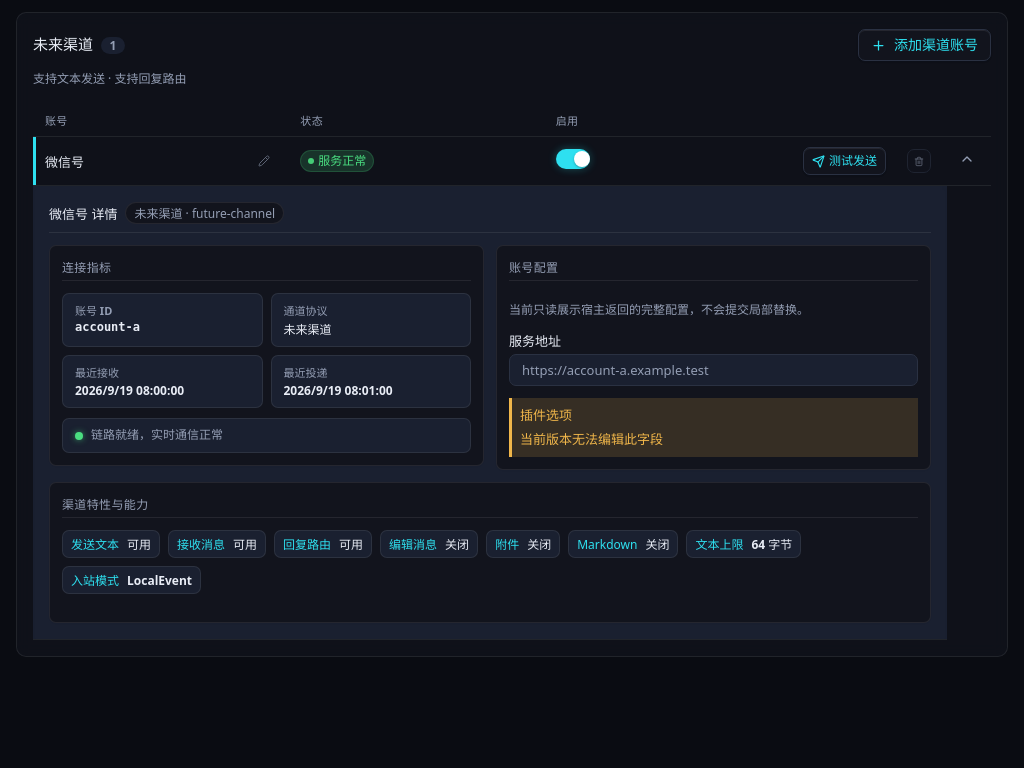
Scenario: ChannelsPage › surfaces a skipped test delivery instead of claiming success
Click the button with aria-label "测试发送 微信号".
click(844, 161)  # box [803, 147, 886, 175]
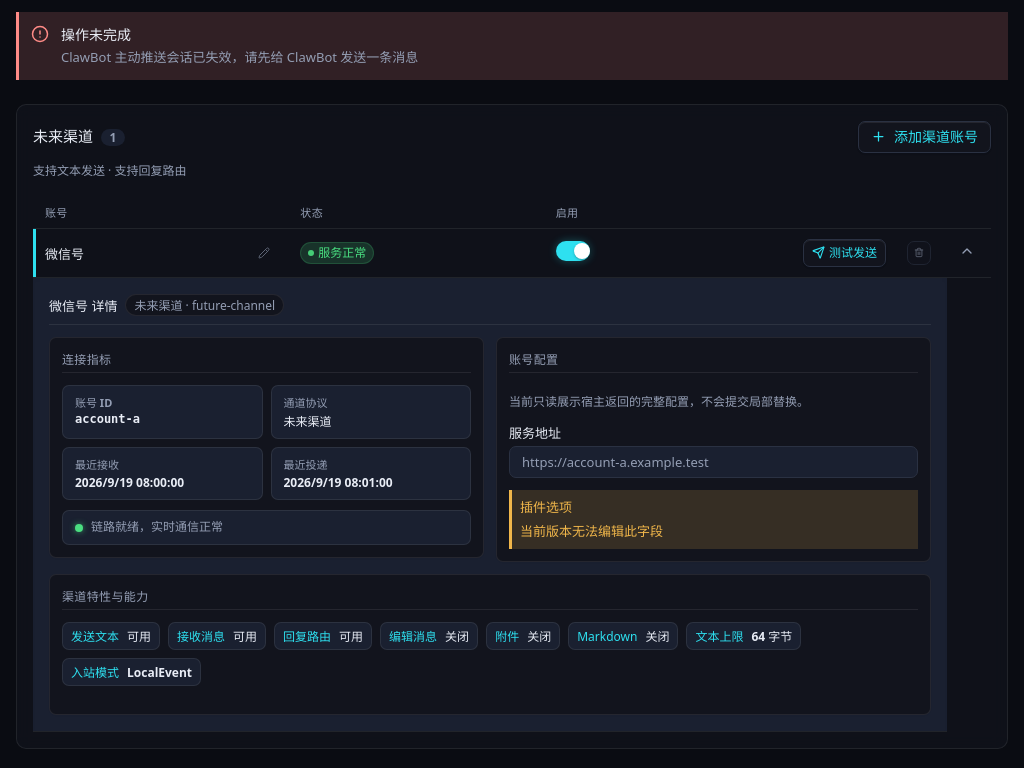
Expected: the message shows "主动推送会话已失效", [61, 48, 418, 66]
